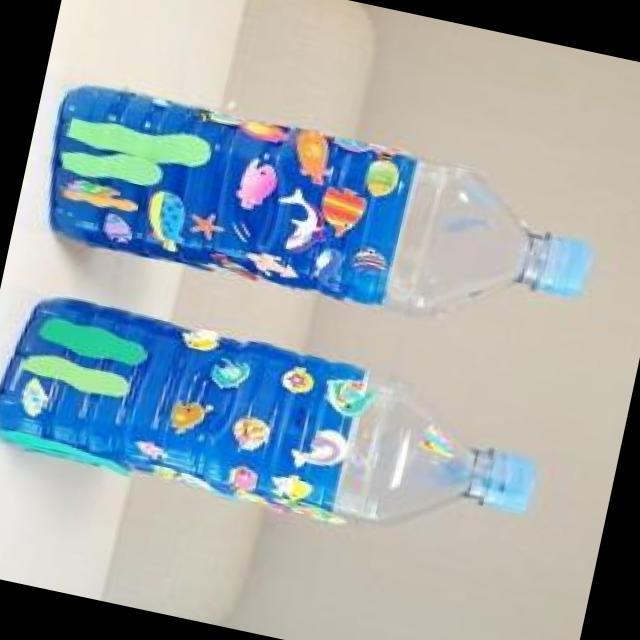good: (18, 58, 630, 364), (0, 272, 562, 570)
